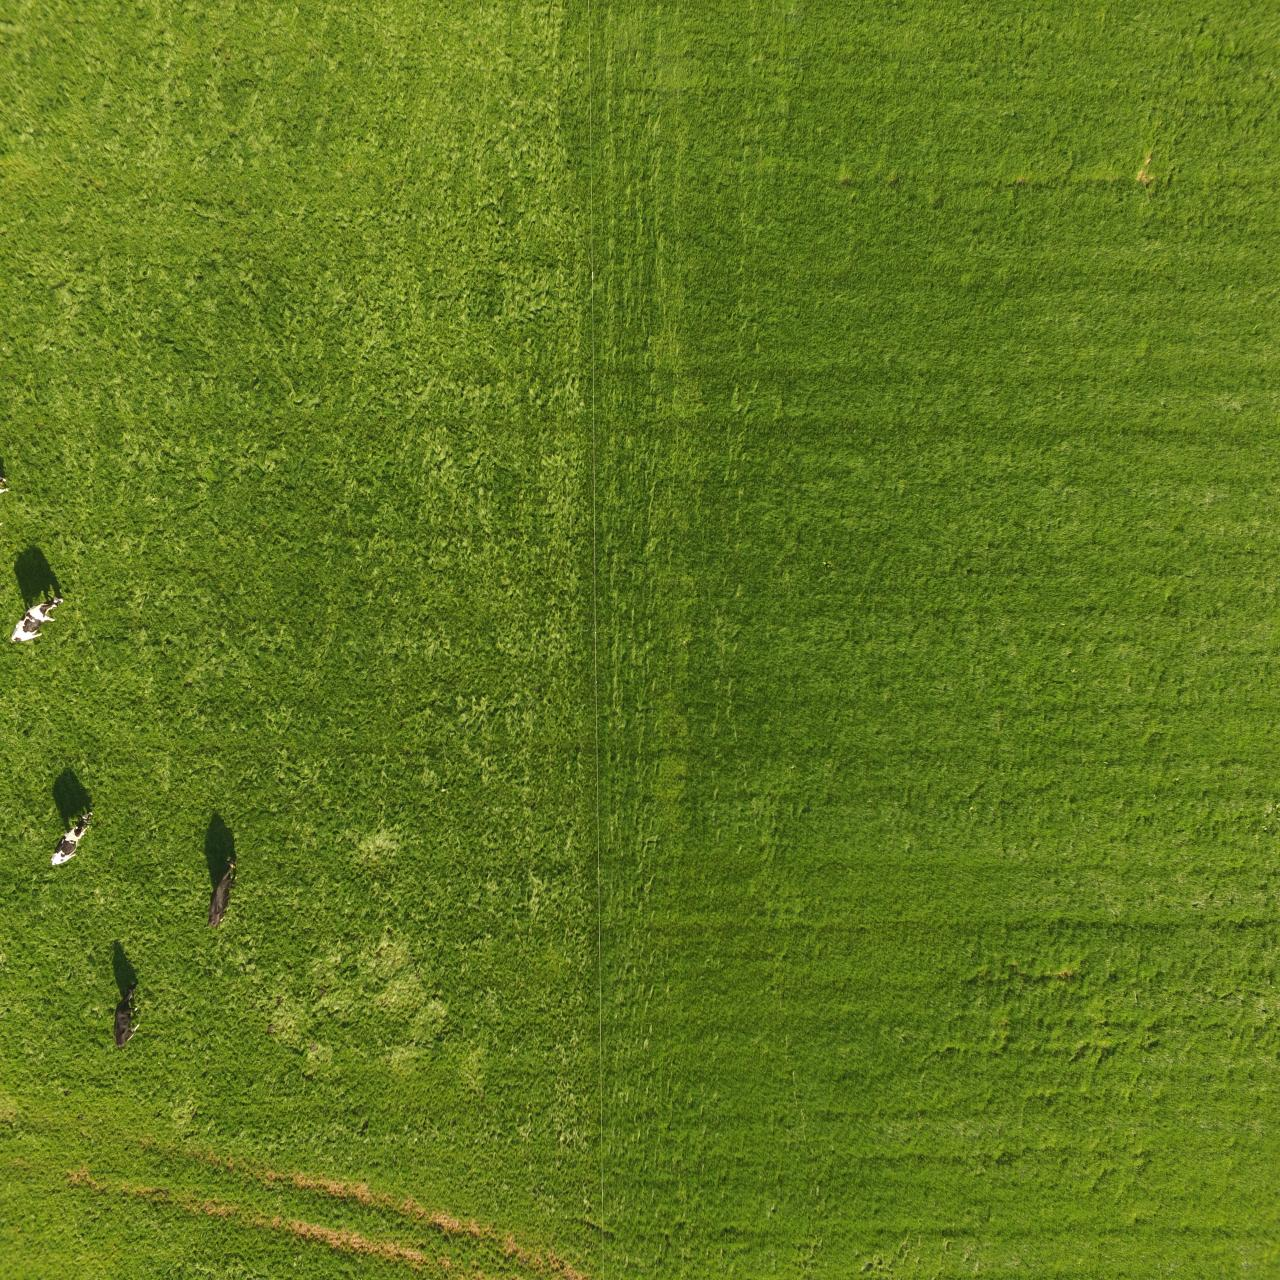cow: (195, 843, 258, 931), (43, 788, 107, 867), (9, 583, 69, 651), (114, 971, 150, 1048)
